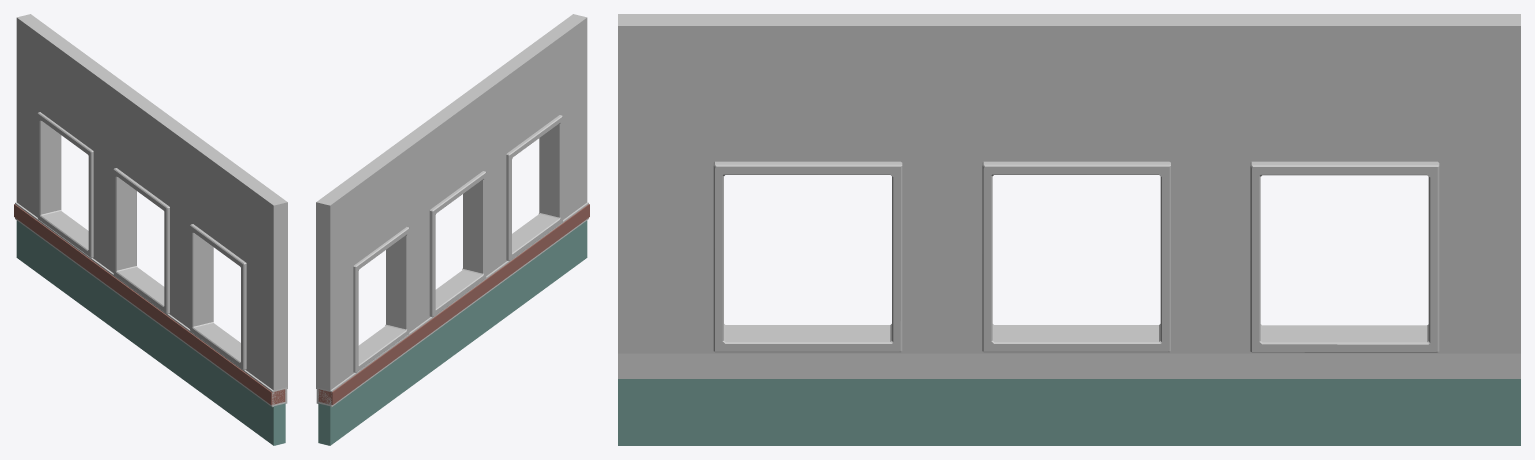
The model's file is wall4_usd.fbx.
3 views of the same model, side by side, from view 1: azimuth 30°, elevation 25°; view 2: azimuth 150°, elevation 25°; view 3: azimuth 270°, elevation 25° (orthographic). The views are drawn at different scales.
Parts seen in each view (by area): view 1: wall_usd_wall8, wall2, pasted__pCube43, pasted__pCube45, pasted__pCube44, wall9, wall7; view 2: wall_usd_wall8, wall2, pasted__pCube44, pasted__pCube45, pasted__pCube43, wall9, wall7; view 3: wall_usd_wall8, wall2, wall7, pasted__pCube43, pasted__pCube45, pasted__pCube44.
Boxes of the visible parts, box(x1,y1,x2,y2) form: wall_usd_wall8: box(16, 14, 287, 391); wall2: box(16, 220, 285, 445); pasted__pCube43: box(37, 112, 93, 258); pasted__pCube45: box(190, 224, 246, 370); pasted__pCube44: box(113, 168, 169, 314); wall9: box(14, 204, 285, 404); wall7: box(15, 202, 287, 407); wall_usd_wall8: box(316, 14, 587, 390); wall2: box(318, 220, 587, 445); pasted__pCube44: box(429, 171, 486, 317); pasted__pCube45: box(506, 115, 562, 260); pasted__pCube43: box(353, 227, 409, 372); wall9: box(318, 204, 589, 404); wall7: box(316, 202, 588, 407); wall_usd_wall8: box(618, 14, 1520, 353); wall2: box(618, 379, 1520, 445); wall7: box(618, 353, 1520, 378); pasted__pCube43: box(1250, 161, 1439, 352); pasted__pCube45: box(713, 161, 902, 352); pasted__pCube44: box(982, 161, 1170, 352).
Bounding box in the file's own units: 0.825 × 8.65 × 16.78.
